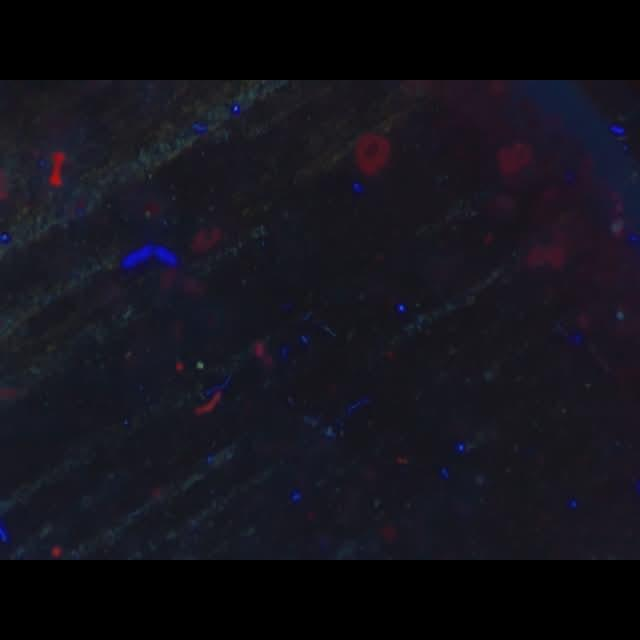Fragment: (49, 152, 65, 185)
